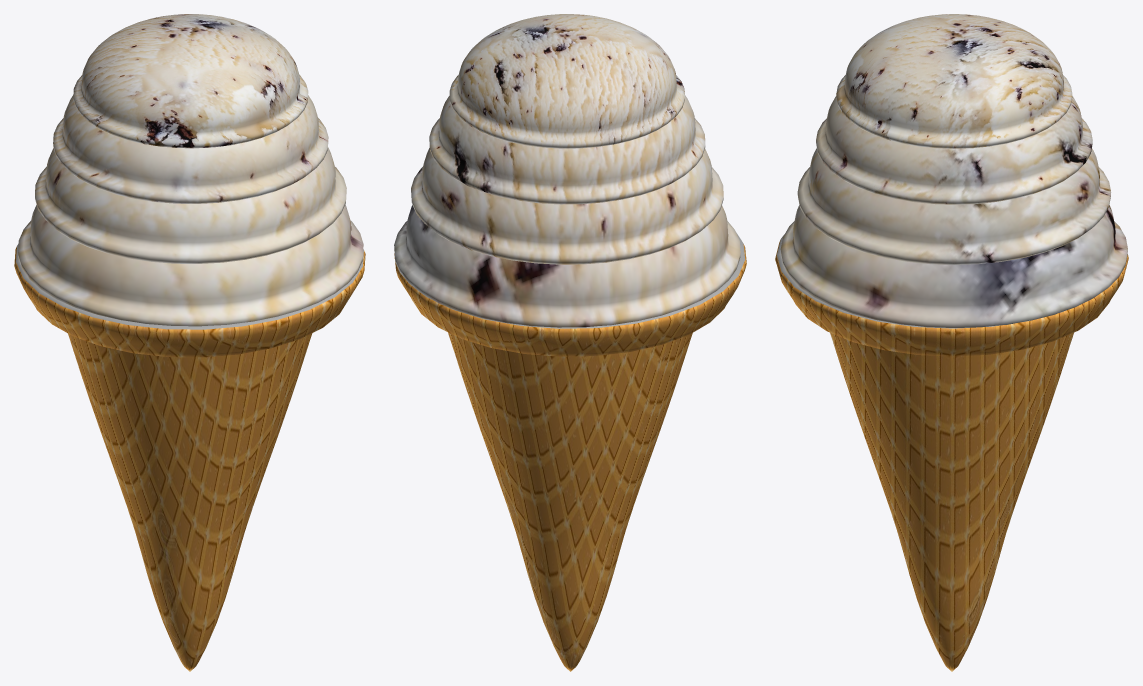
The model's file is cookiesnCream.fbx.
The picture shows the model from 3 angles, left to right: view 1: azimuth 30°, elevation 25°; view 2: azimuth 150°, elevation 25°; view 3: azimuth 270°, elevation 25°; orthographic projection.
Visible parts, largest first — view 1: pSphere11; view 2: pSphere11; view 3: pSphere11.
Boxes of the visible parts, bbox=[...] form: pSphere11: bbox=[14, 14, 365, 671]; pSphere11: bbox=[394, 14, 746, 671]; pSphere11: bbox=[775, 14, 1128, 671].
Bounding box in the file's own units: 0.3942 × 0.7884 × 0.3943.
